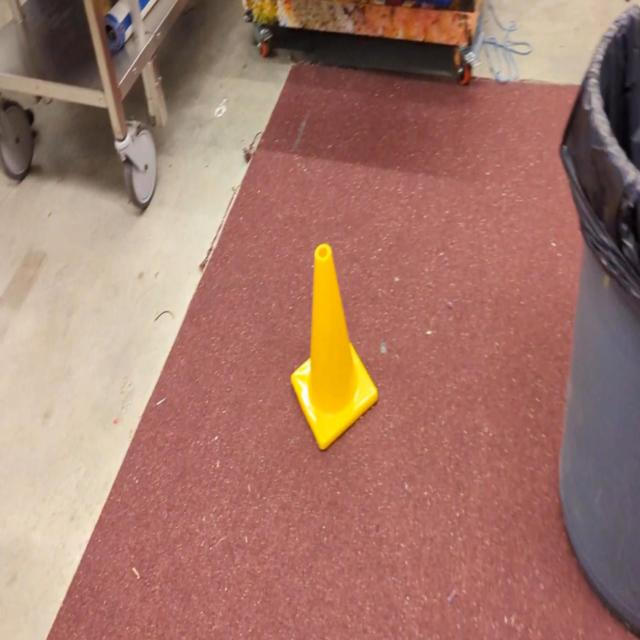frc_cone: (290, 244, 379, 454)
